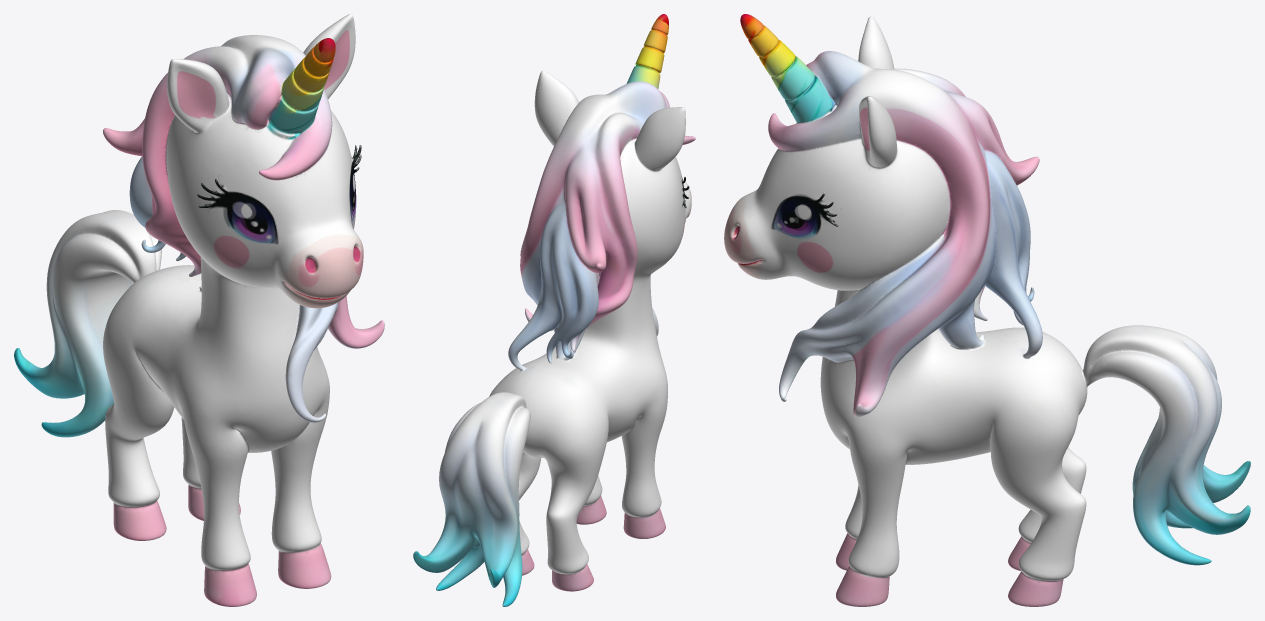
The model's file is holy_unicorn.glb.
3 views of the same model, side by side, from view 1: azimuth 30°, elevation 25°; view 2: azimuth 150°, elevation 25°; view 3: azimuth 270°, elevation 25° (orthographic). The views are drawn at different scales.
Bounding box in the file's own units: 0.6969 × 1.9 × 1.6.
1 material, 1 textured.
